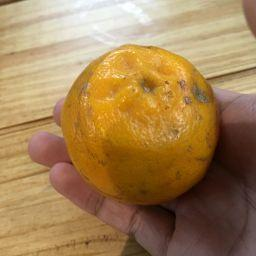Unripe: (63, 47, 217, 206)
